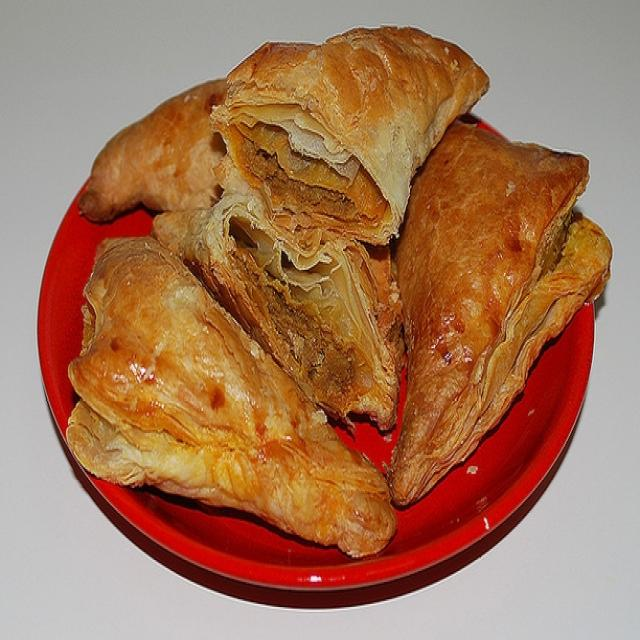炸货点心: (31, 27, 614, 604)
